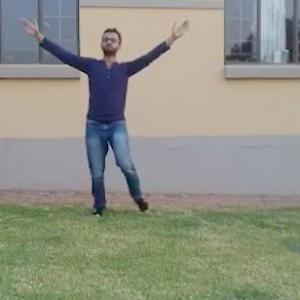takeoff: (24, 18, 174, 204)
